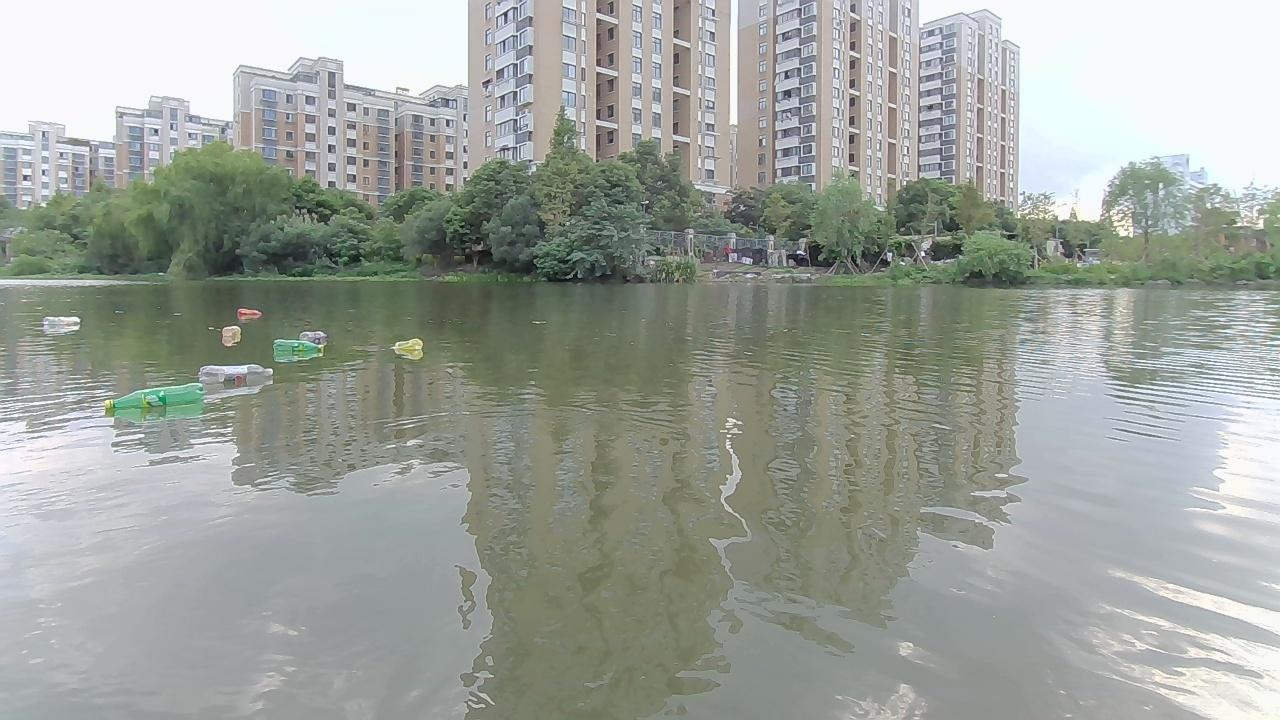bottle: (101, 387, 206, 412), (196, 363, 273, 388), (271, 338, 324, 358), (38, 316, 80, 332), (391, 337, 425, 356), (233, 305, 268, 321), (219, 322, 247, 341), (301, 328, 330, 344)
